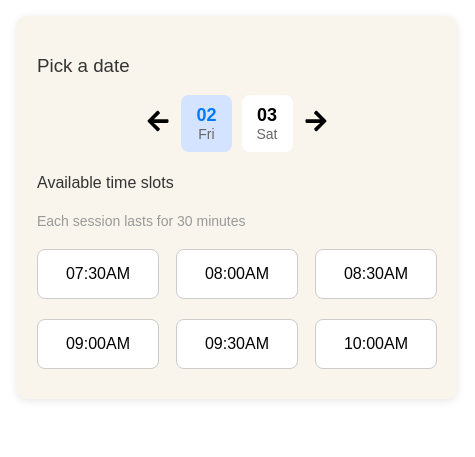
Scenario: TimeSlotPicker Component › selects a time slot and displays the selected information
# Select a date
Click the text "03". click: (267, 116)
box: [256,105,278,126]
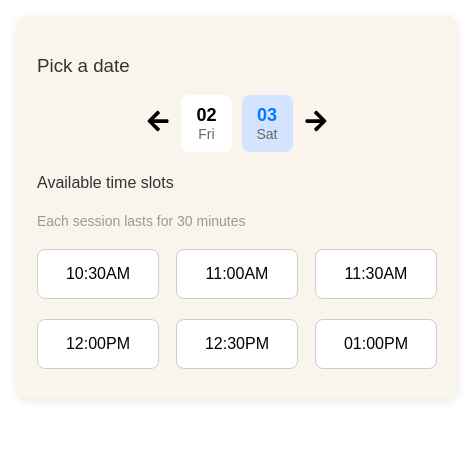
# Select a time slot
Click the text "10:30AM". click: (98, 274)
box: [37,249,159,299]
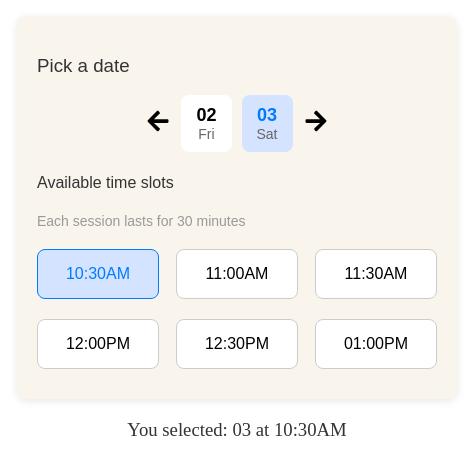
Expected: the heading "You selected: 03 at 10:30AM" is shown, [127,419,347,440]
